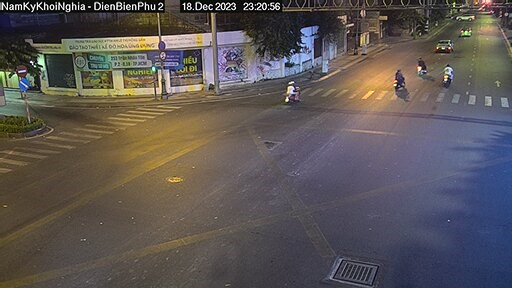car: (436, 38, 452, 56), (461, 25, 473, 38)
motorbike: (280, 75, 301, 101), (391, 68, 407, 92), (440, 64, 454, 88)
